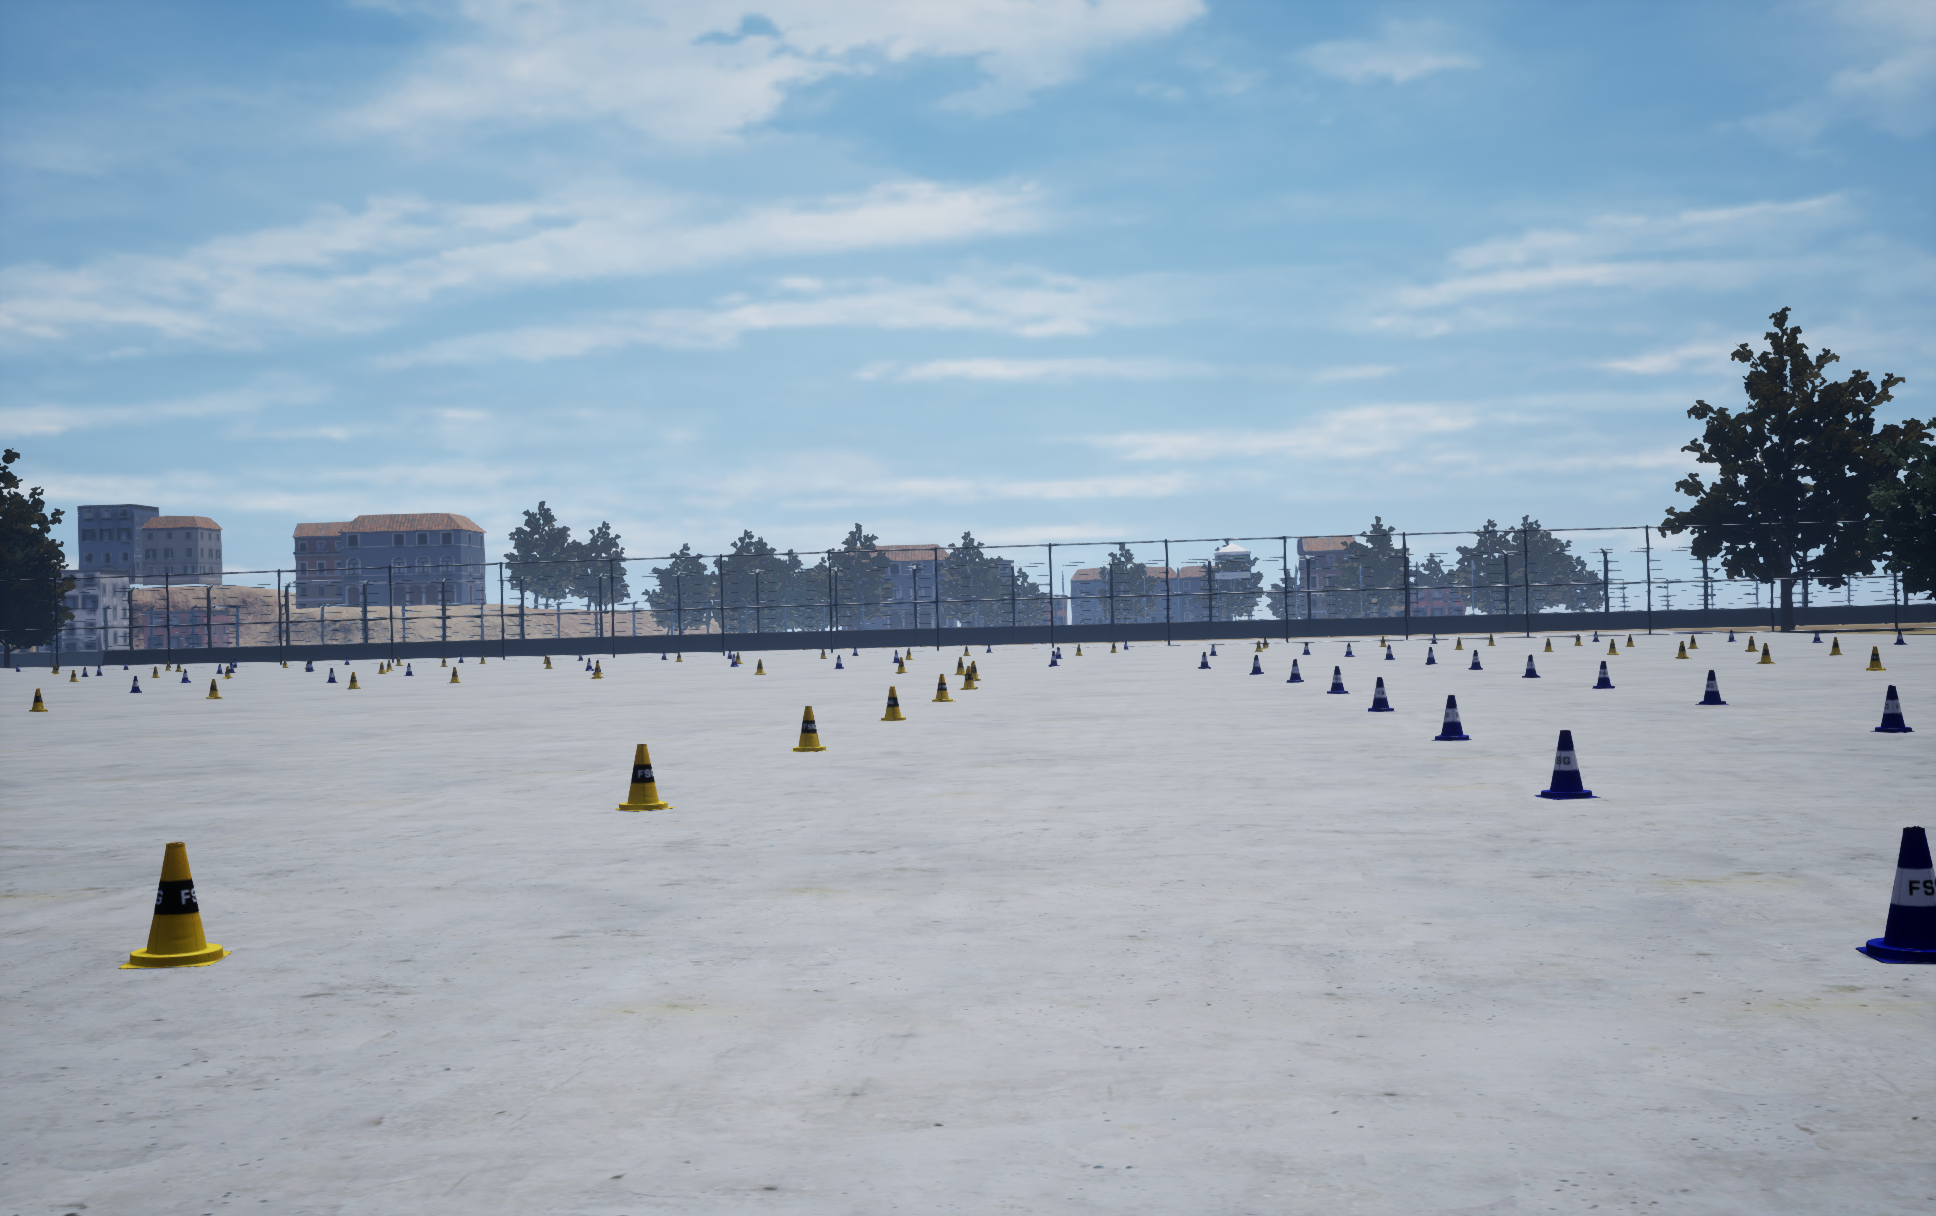blue: (118, 842, 231, 968), (615, 744, 675, 811), (790, 706, 827, 751), (878, 686, 905, 720), (932, 674, 955, 700), (1866, 646, 1886, 670), (29, 688, 48, 712), (960, 665, 976, 689), (1757, 643, 1775, 663), (206, 679, 221, 698)
yellow: (1855, 827, 1935, 962), (1534, 730, 1600, 799), (1870, 685, 1914, 733), (1432, 695, 1471, 740), (1695, 670, 1729, 705), (1369, 677, 1394, 712), (1327, 665, 1349, 693), (1591, 661, 1614, 688), (1521, 654, 1540, 677), (1286, 658, 1303, 682), (1468, 650, 1482, 670), (1250, 656, 1264, 674)
